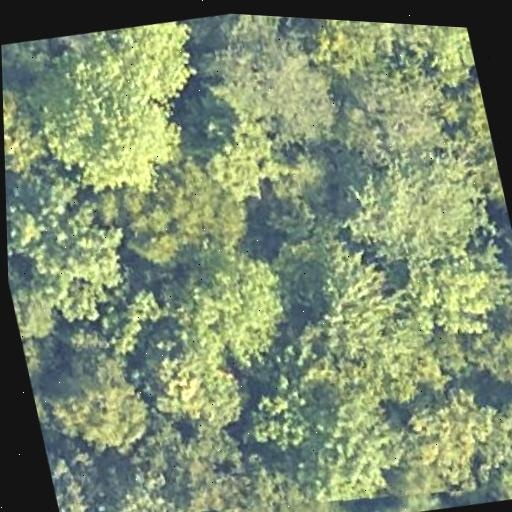tree-top: (7, 8, 227, 206), (96, 137, 263, 278), (198, 12, 351, 160), (339, 143, 494, 280), (263, 220, 402, 372), (161, 232, 304, 369), (5, 160, 128, 307), (29, 330, 156, 465), (330, 53, 457, 182), (293, 383, 411, 504), (131, 321, 249, 442), (391, 232, 512, 344), (400, 383, 496, 505), (257, 140, 355, 227), (239, 375, 324, 464), (204, 119, 288, 208), (460, 389, 512, 499), (401, 24, 479, 93), (8, 265, 69, 347), (462, 300, 512, 395), (2, 76, 48, 177), (83, 479, 214, 512), (366, 473, 469, 512), (224, 478, 330, 512), (47, 454, 97, 512), (465, 477, 512, 508)
